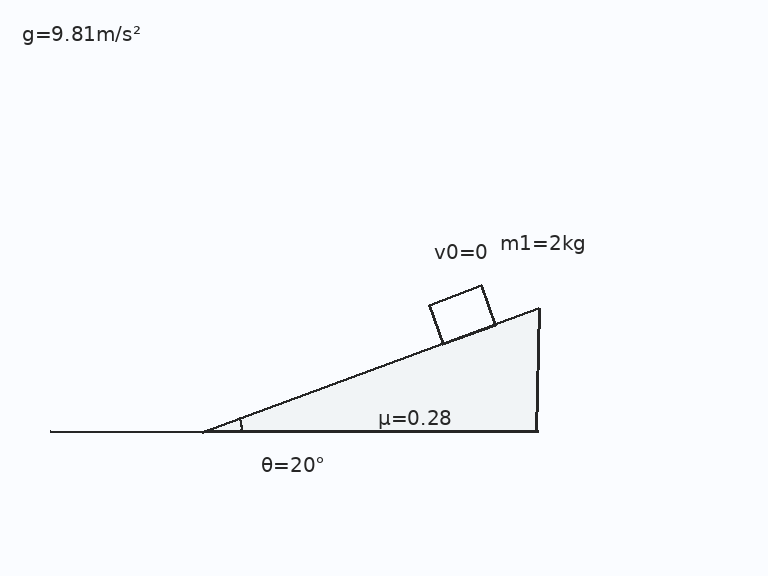block: (426, 284, 497, 345)
ramp: (200, 307, 539, 433)
